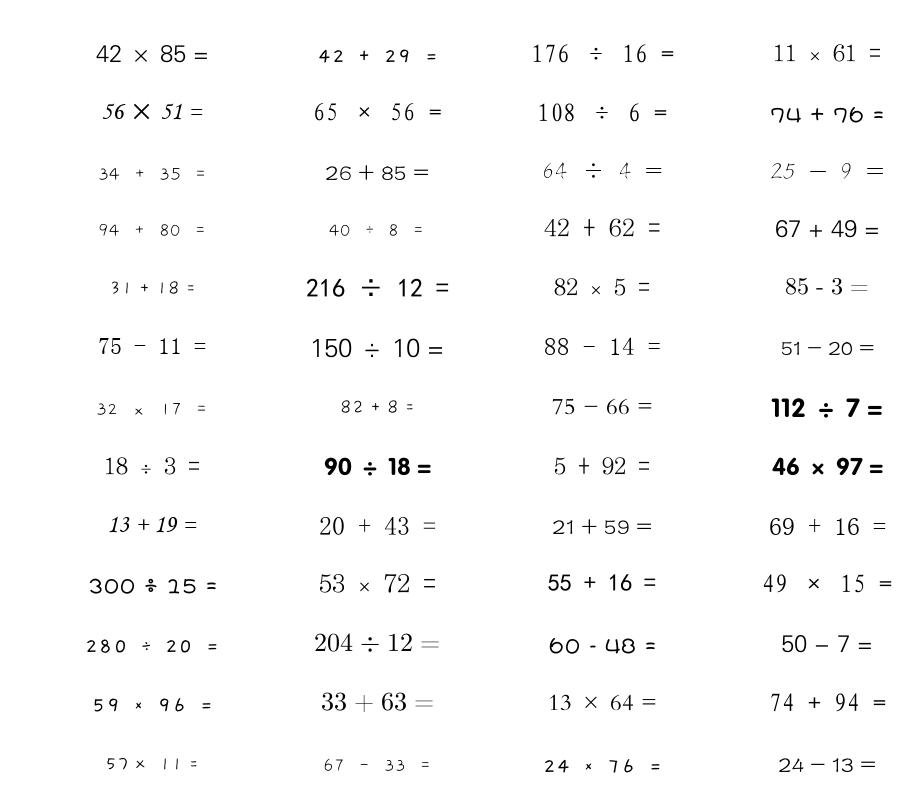MQ: (531, 44, 674, 63), (306, 278, 449, 297), (310, 338, 444, 358), (537, 103, 667, 122), (762, 574, 892, 593), (314, 633, 440, 652), (321, 692, 434, 713), (319, 573, 436, 593), (313, 103, 442, 121), (771, 398, 883, 418), (544, 218, 661, 237), (769, 693, 886, 712), (772, 457, 883, 476), (544, 337, 661, 355), (319, 517, 436, 535), (88, 578, 217, 594), (542, 162, 663, 179), (96, 45, 209, 63), (324, 457, 431, 476), (775, 219, 880, 238), (769, 518, 886, 535), (773, 44, 881, 62), (770, 106, 884, 123), (85, 639, 219, 653), (548, 694, 657, 711), (548, 574, 656, 591), (770, 163, 884, 179), (549, 637, 656, 654), (325, 164, 429, 181), (101, 103, 203, 120), (554, 278, 650, 296), (98, 338, 206, 354), (104, 457, 200, 475), (554, 457, 650, 475), (552, 398, 653, 415), (91, 698, 213, 712), (552, 518, 652, 535), (317, 49, 438, 63), (543, 759, 662, 773), (781, 635, 873, 653), (107, 516, 197, 533), (98, 167, 207, 181), (98, 223, 207, 237), (323, 758, 432, 772), (785, 277, 869, 295), (778, 758, 876, 773), (96, 403, 208, 416), (105, 757, 199, 771), (781, 341, 874, 355), (329, 224, 425, 237), (109, 281, 196, 295), (340, 400, 415, 414)
